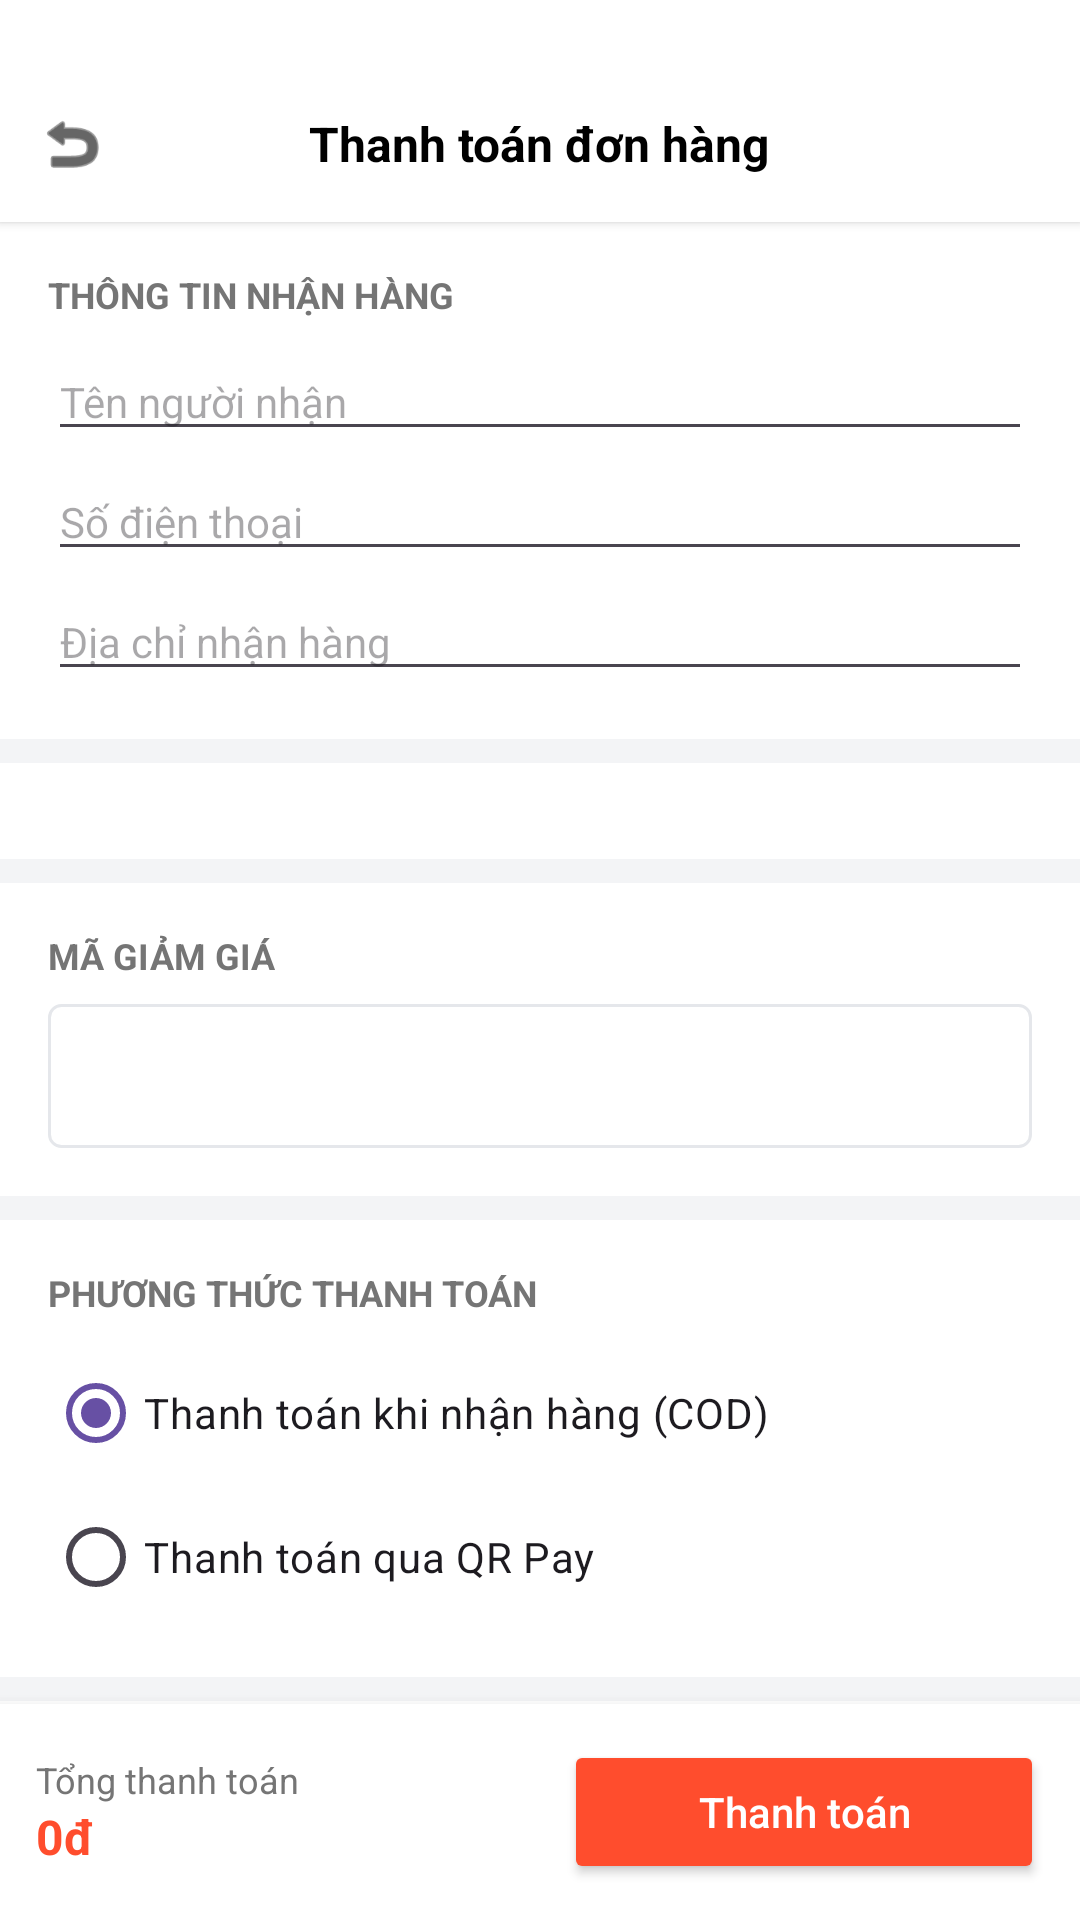

Icon bounding boxes for this 1080×1920 phone screenshot, format (x1, y1, x2, y2):
revert: (47, 121, 99, 168)
